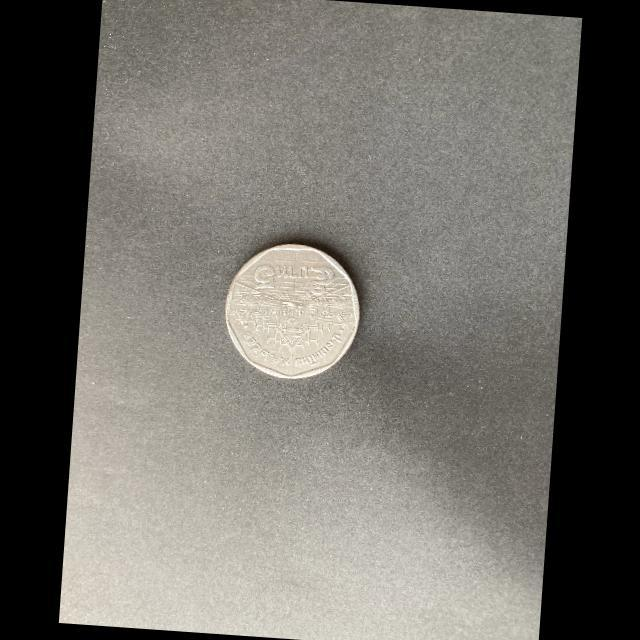5 Bath: (224, 240, 365, 387)
